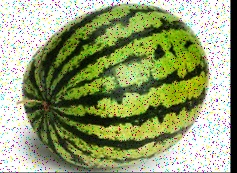watermelon: (20, 2, 209, 168)
